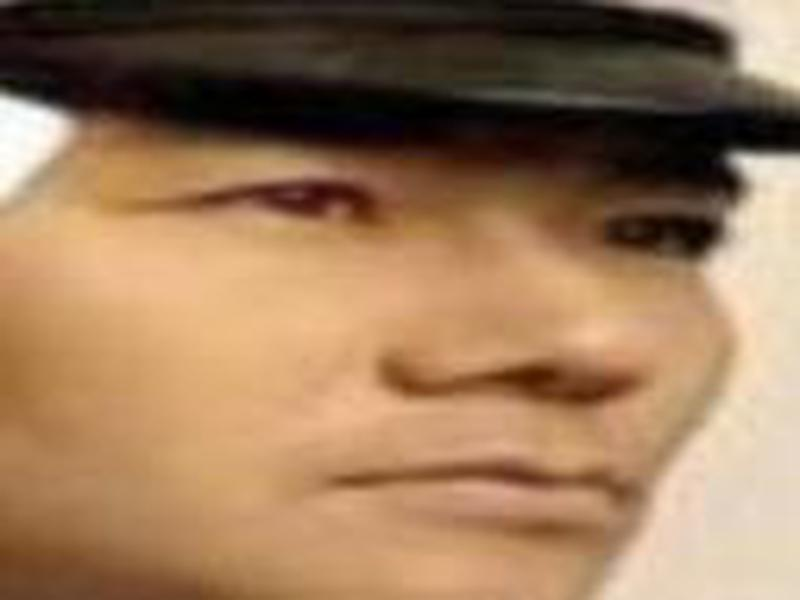without_mask: (1, 127, 742, 600)
